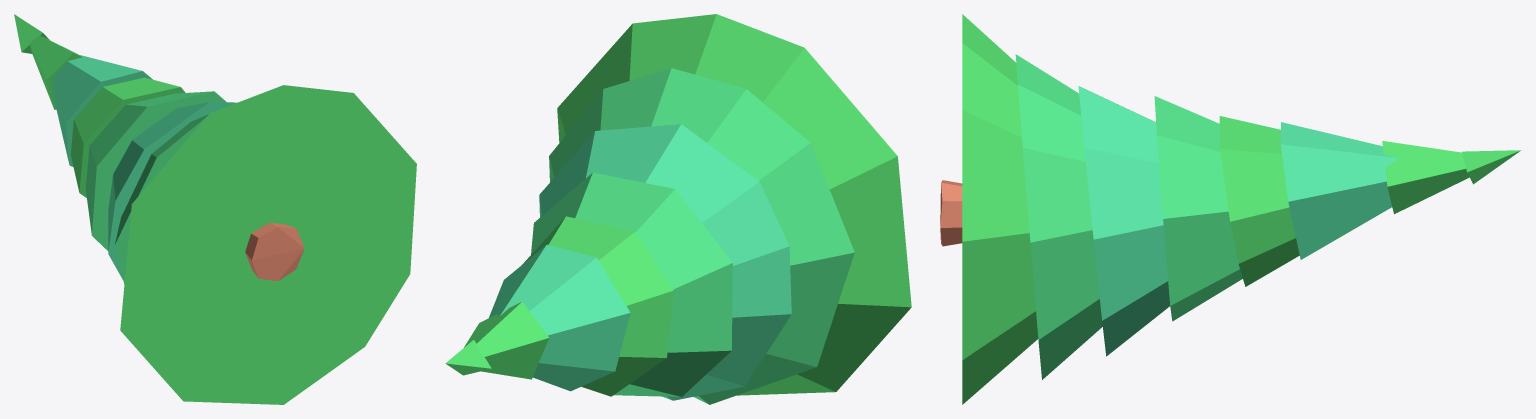
Rendered from lowPolyTree_j.fbx.
3 renders of one model, left to right at view 1: azimuth 30°, elevation 25°; view 2: azimuth 150°, elevation 25°; view 3: azimuth 270°, elevation 25°, orthographic. The views are drawn at different scales.
Visible parts, largest first — view 1: Cone.003; view 2: Cone.003; view 3: Cone.003.
Part boxes in pixels (bbox=[...]): Cone.003: bbox=[14, 14, 416, 404]; Cone.003: bbox=[445, 14, 911, 404]; Cone.003: bbox=[940, 14, 1521, 404].
Bounding box in the file's own units: 483 × 498 × 728.
